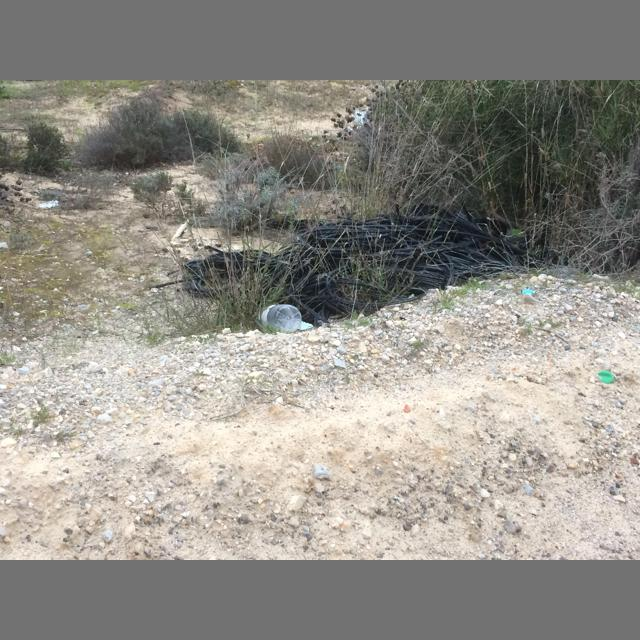litter: (257, 304, 302, 333), (597, 371, 615, 383), (298, 321, 314, 330), (522, 289, 534, 295)
